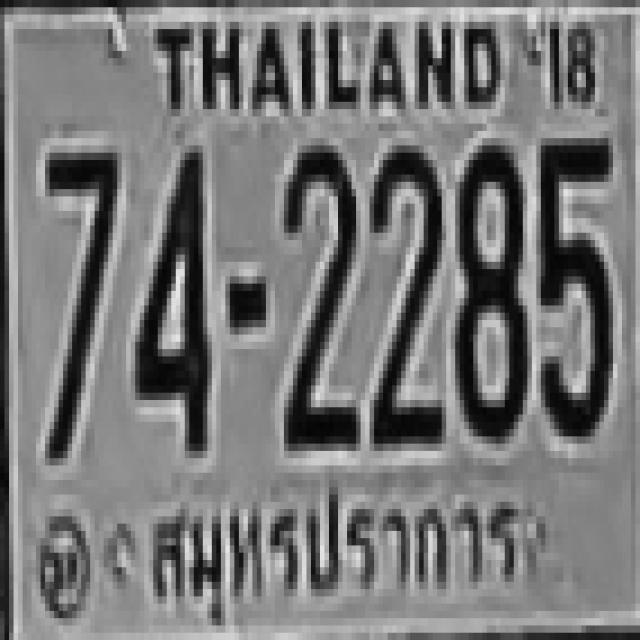2: (277, 142, 354, 447), (368, 138, 440, 444)
4: (131, 142, 207, 447)
5: (536, 127, 608, 433)
7: (43, 146, 115, 458), (43, 146, 115, 357)
8: (451, 138, 523, 436)
SamutPrakan: (139, 484, 527, 598)
